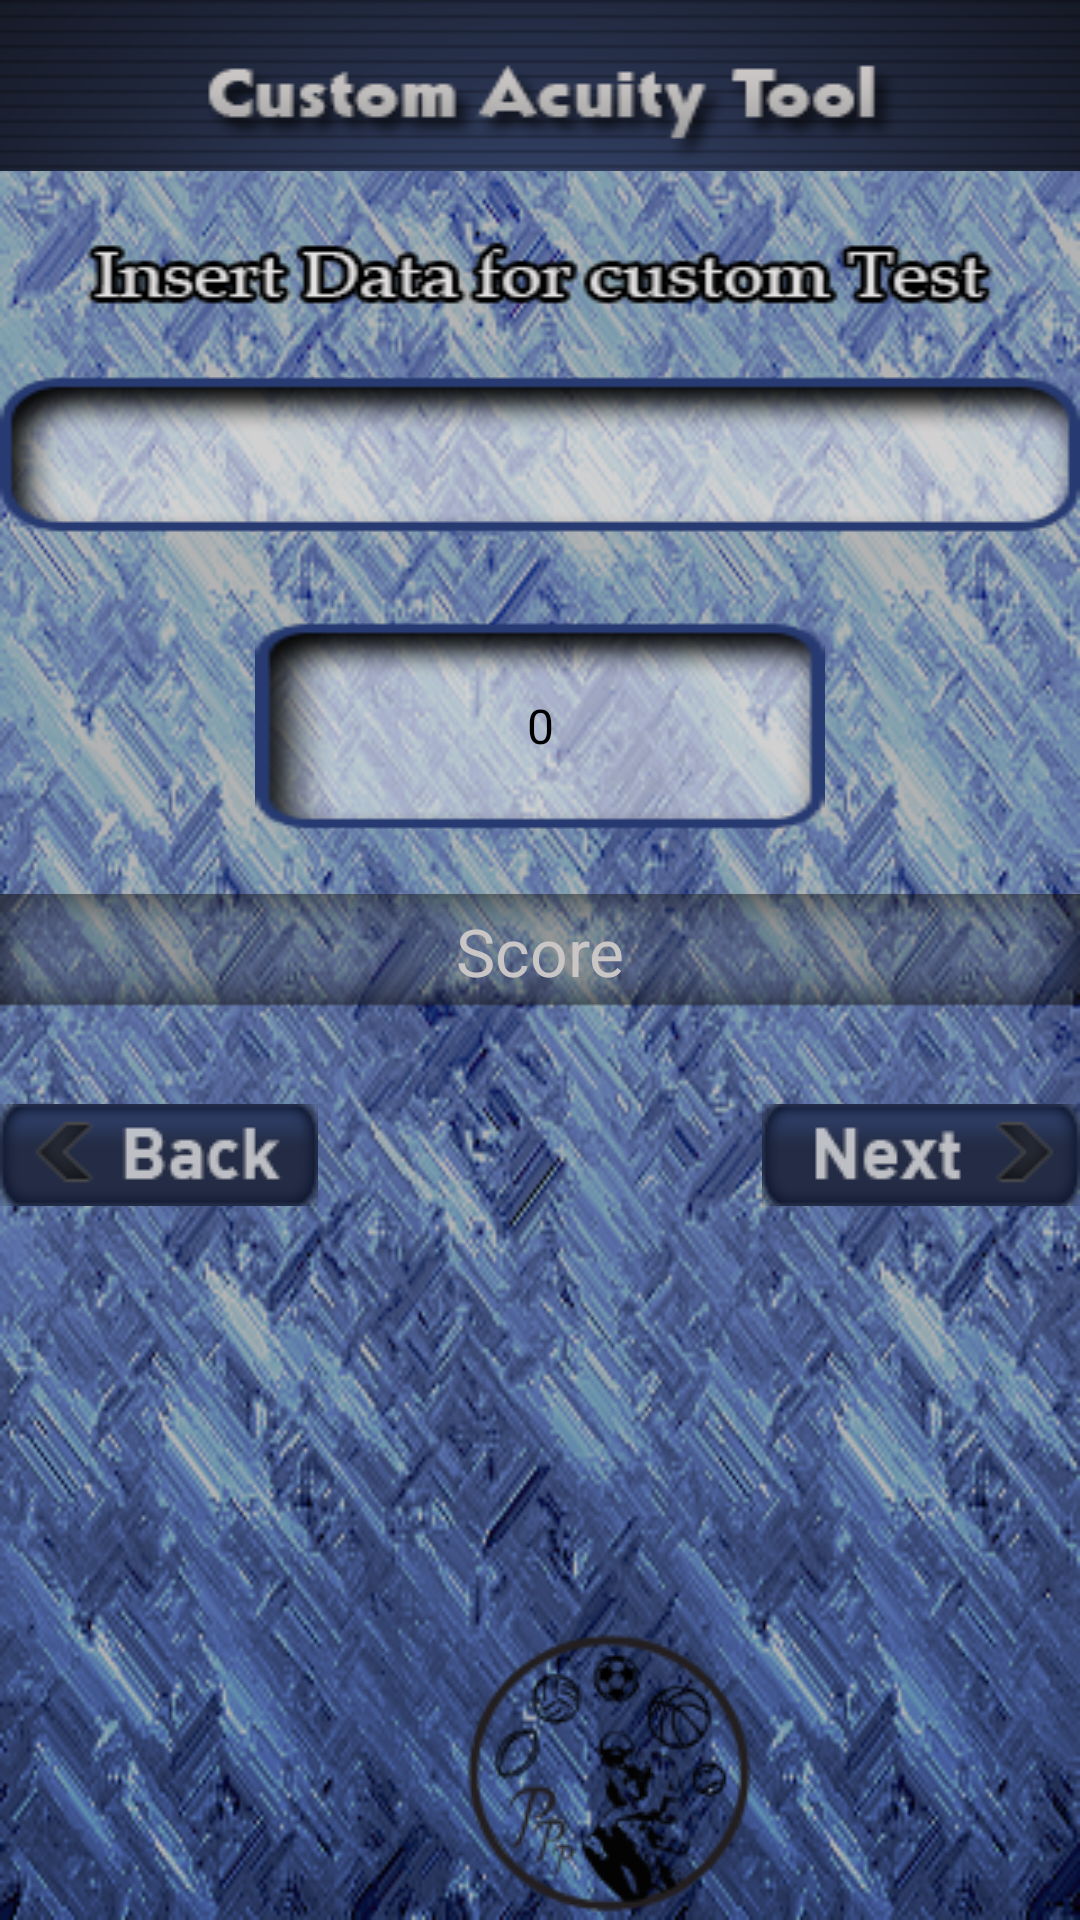

Locate icon controls on the screen. Image size 1080w x 1920h, boxes as (x1, y1, x2, y2).
circle: (447, 1617, 762, 1920)
